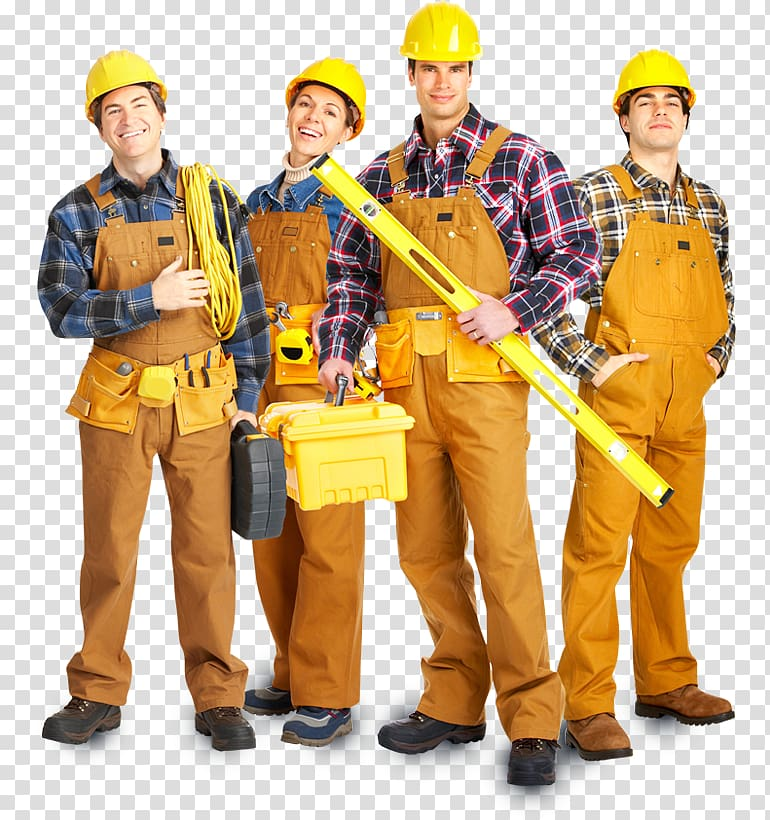hard hat: (83, 51, 169, 125), (286, 60, 366, 131), (401, 1, 484, 67), (615, 52, 697, 111)
